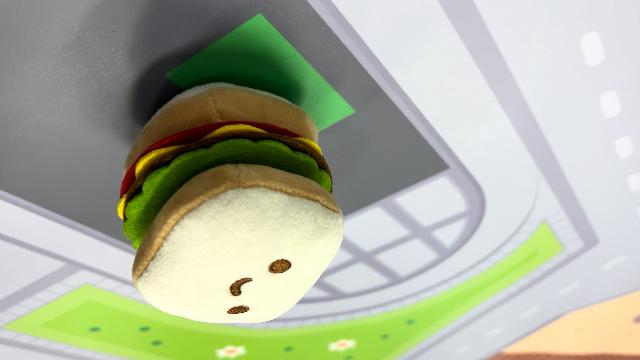sandwich: (115, 80, 348, 324)
